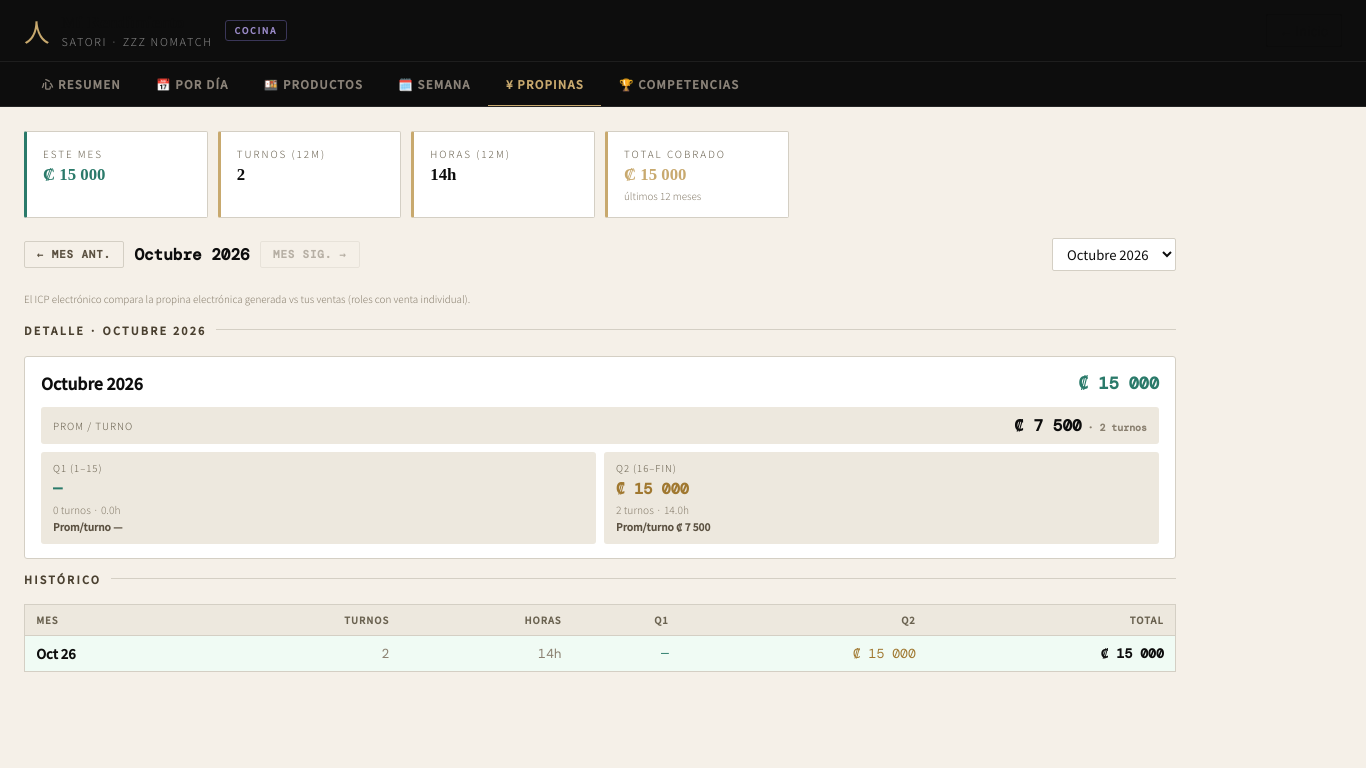
Test: MiRendimiento · rol propinas-primero (cocina, sin match de ventas) › arranca en Propinas y las sub-vistas de ventas invitan a ir a propinas
Expected: the text "Total cobrado" is shown, [624, 146, 726, 161]
// Ir a Resumen (ventas) → estado que empuja a propinas, sin romper
Click the text with class "cd-nav-tab" showing "心 Resumen" at (81, 84), box [42, 76, 121, 92]
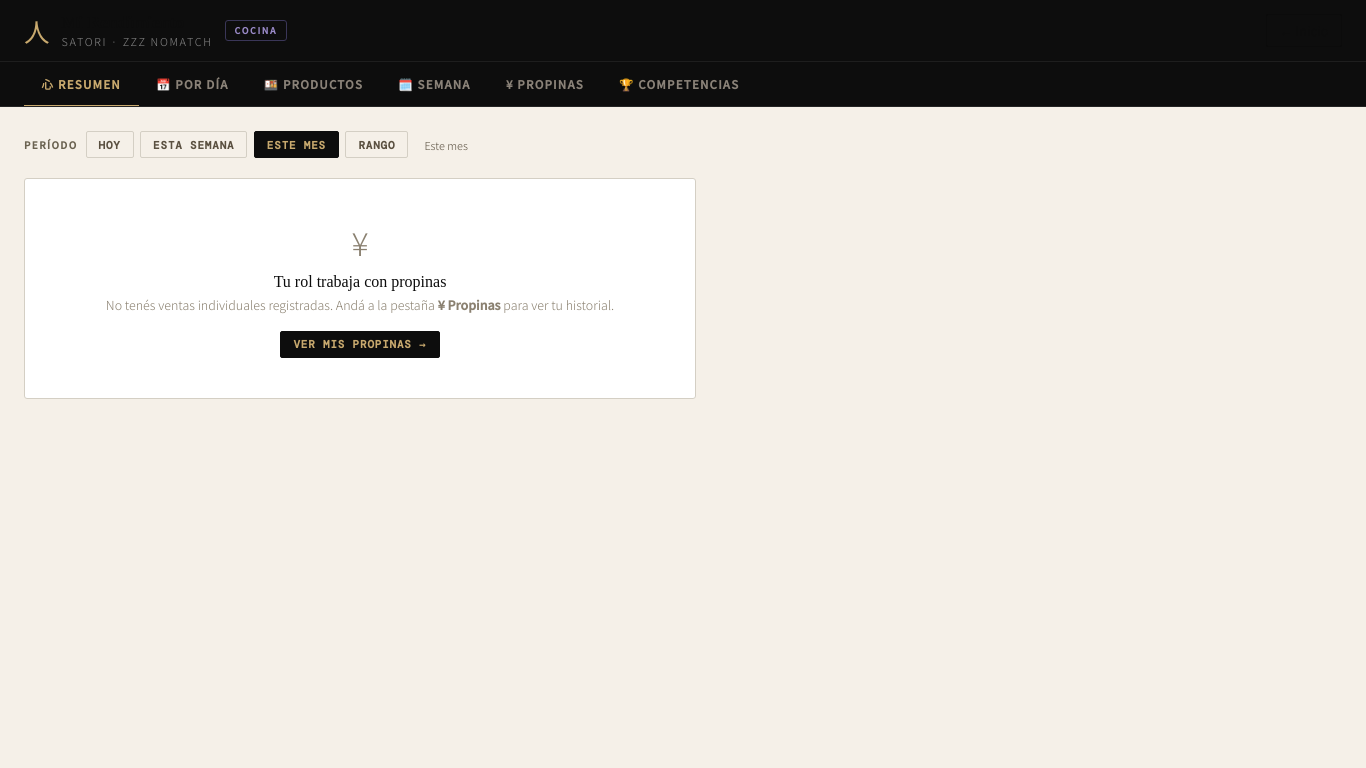
Expected: the text "Tu rol trabaja con propinas" is shown, [274, 273, 446, 290]
